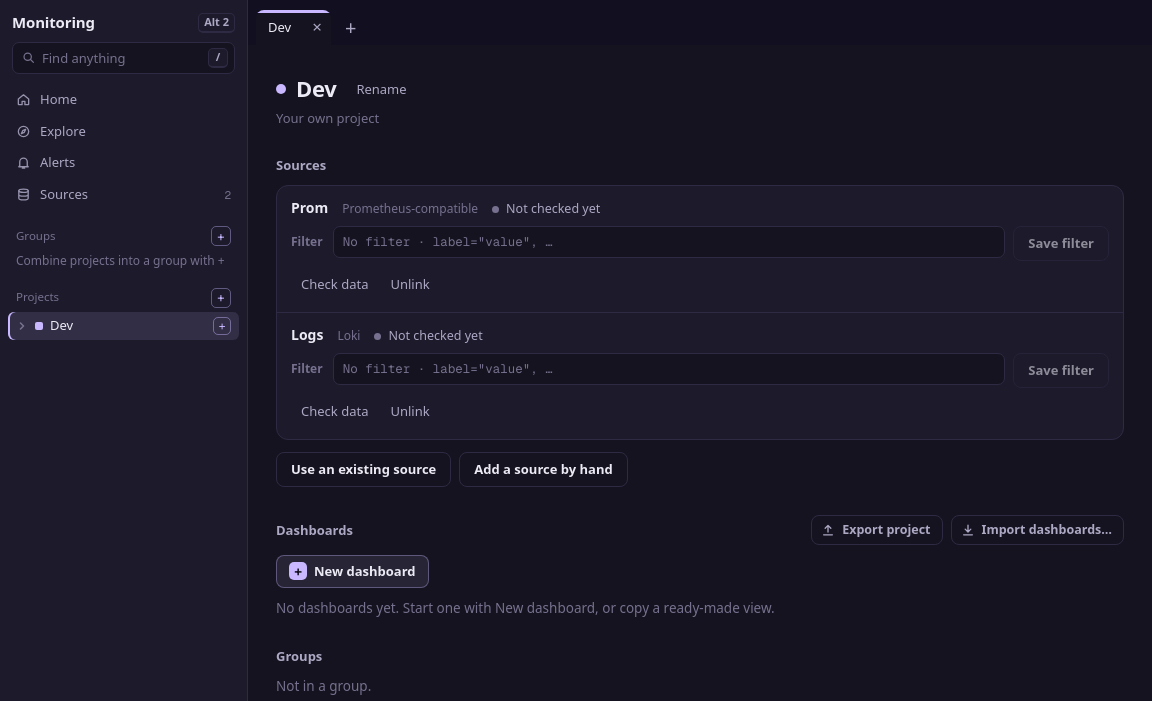
it: Project page › check data shows what the project sees
The width and height of the screenshot is (1152, 701).
What coordinates should you click on to do the following:
click the button with aria-label "Check data for Prom"
I would click on:
 (335, 284)
Its box is [291,269,378,300].
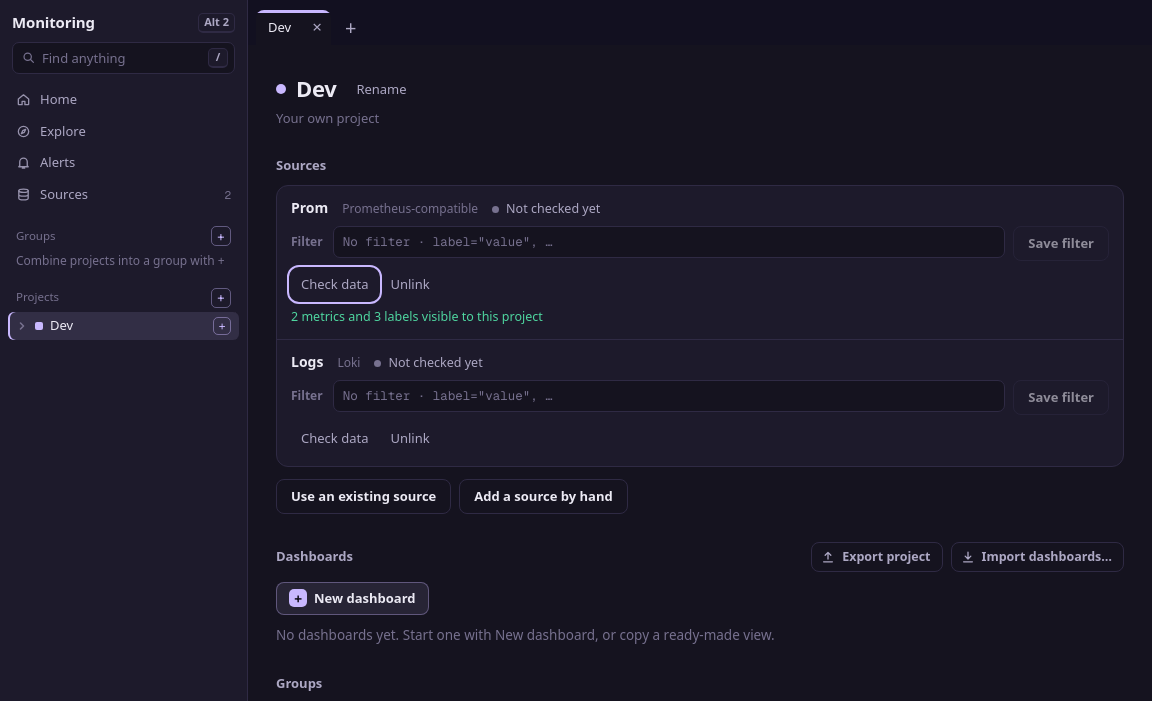
Check: the text "2 metrics and 3 labels visible to this project" is shown, box [291,308,543,325]
What coordinates should you click on to do the following:
click the button with aria-label "Check data for Logs"
I would click on:
 (335, 438)
Its box is [291,423,378,454].
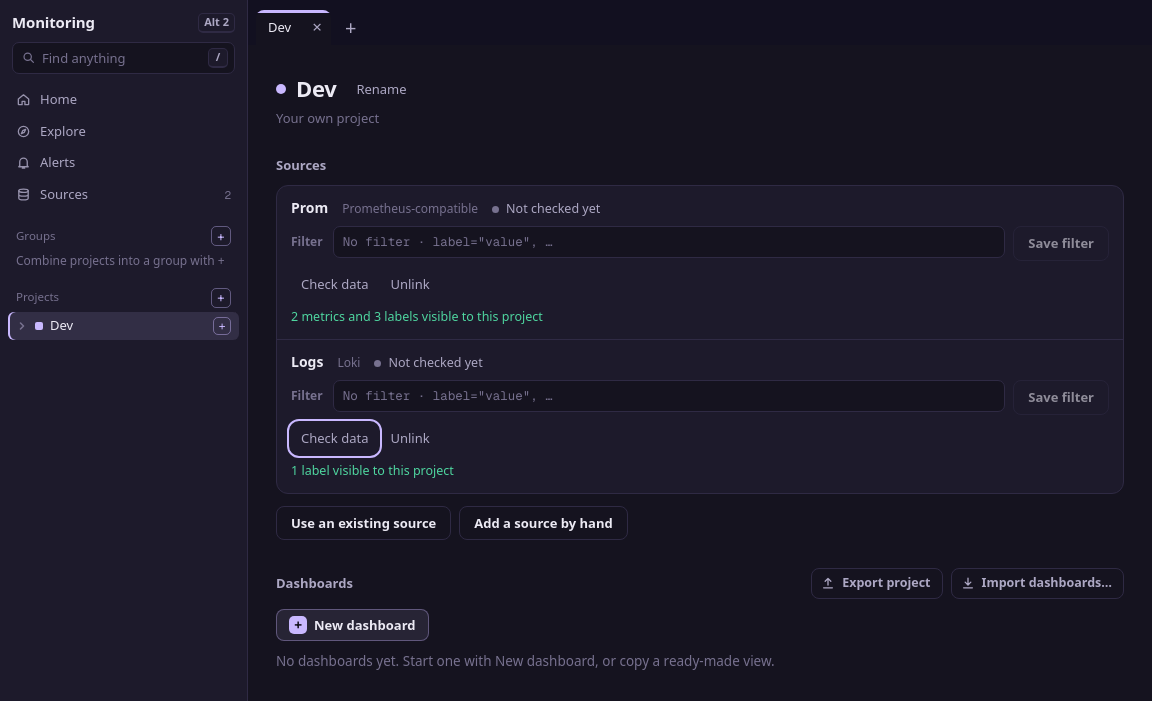
Check: the text "1 label visible to this project" is shown, box [291,462,454,479]
